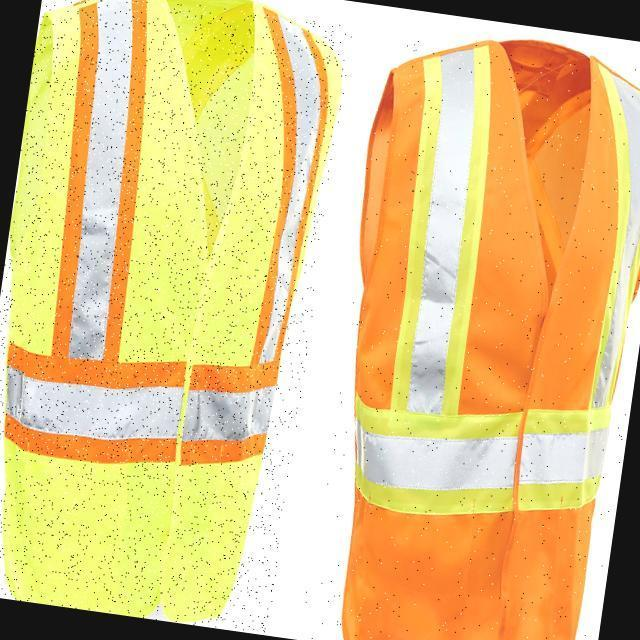vest: (0, 0, 353, 635), (298, 32, 640, 640)
